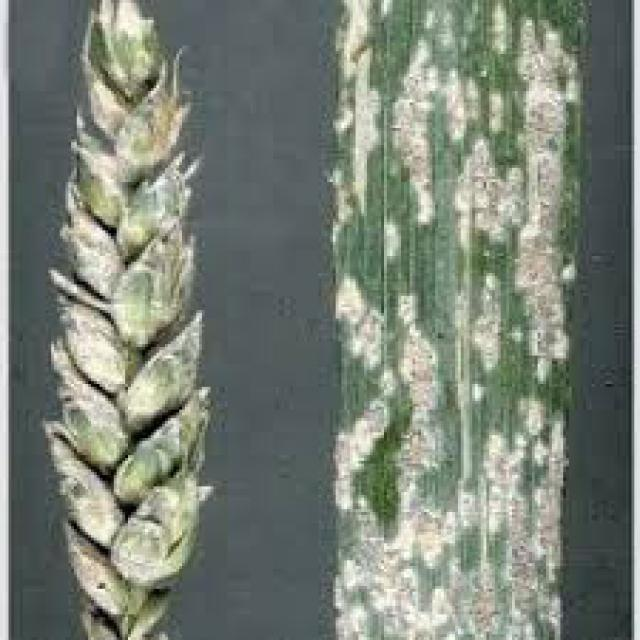wheat-powdery-mildew: (46, 0, 210, 640), (333, 269, 564, 639), (453, 14, 588, 385), (389, 41, 510, 224), (333, 0, 398, 140), (416, 0, 513, 70), (348, 40, 385, 217), (464, 275, 505, 371), (327, 167, 359, 244), (377, 218, 403, 263)
